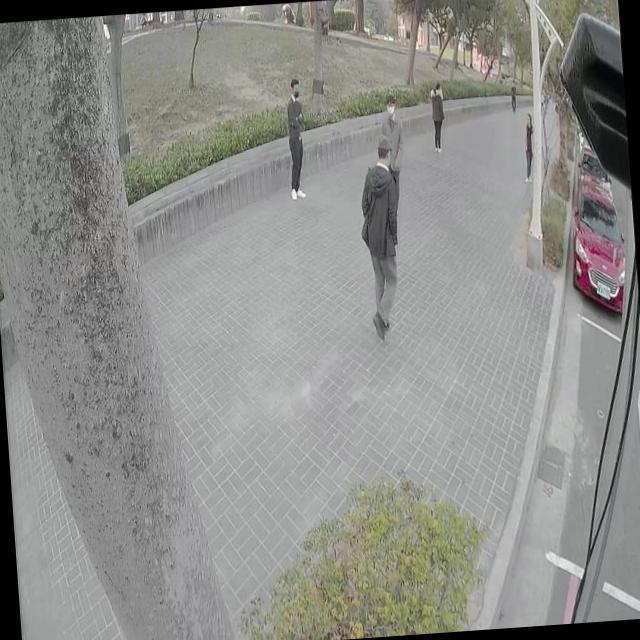person: (352, 132, 410, 340), (284, 78, 310, 198), (382, 90, 407, 183), (428, 80, 446, 151), (520, 112, 537, 180), (508, 80, 516, 111)
